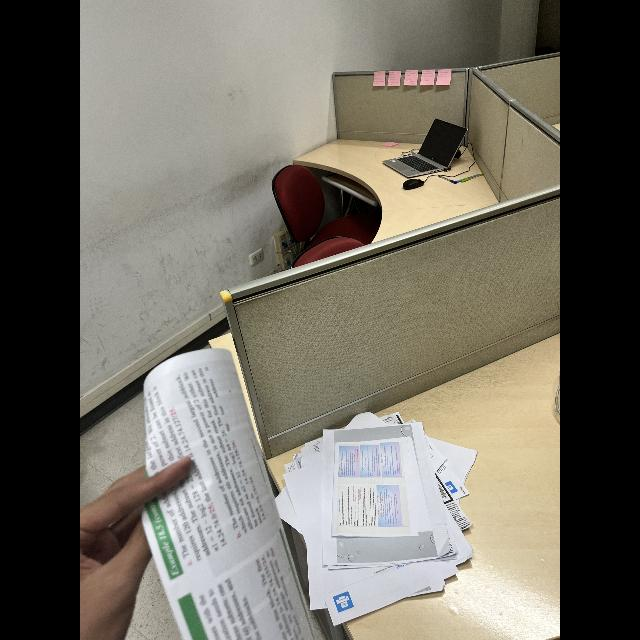reuseable_paper: (137, 350, 335, 640), (284, 408, 478, 626)
